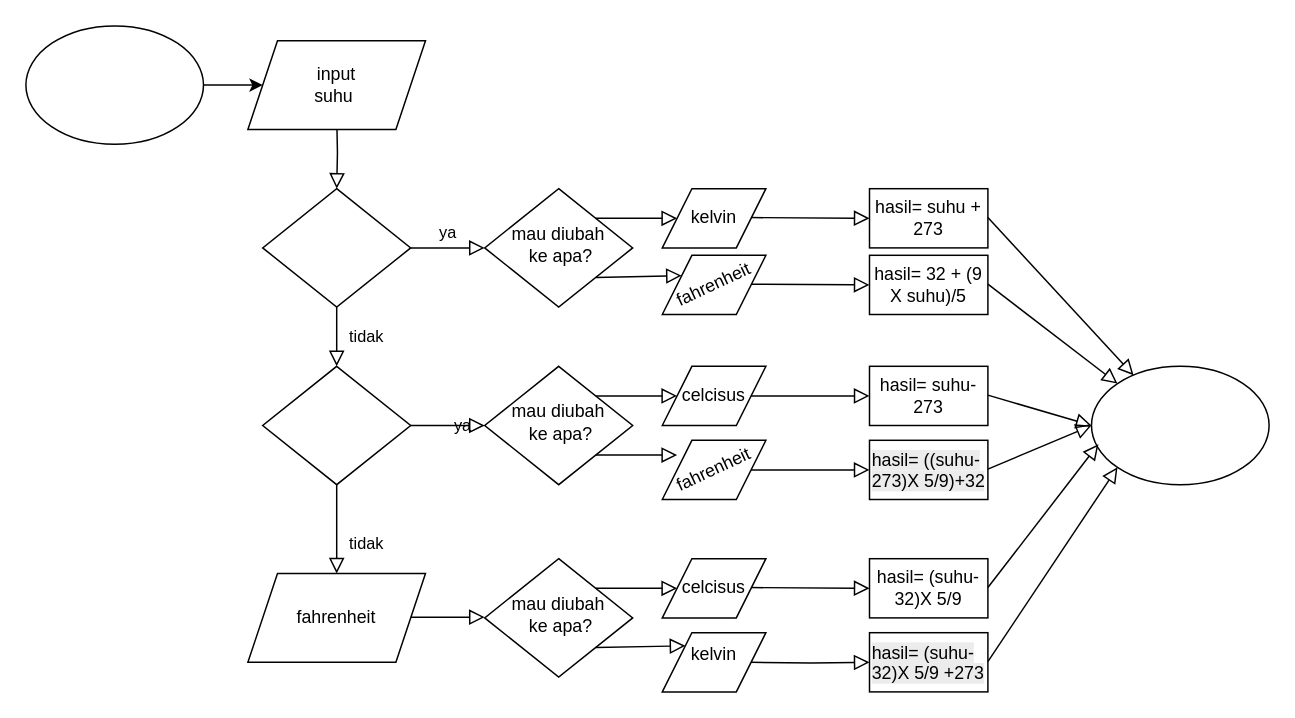
The diagram is 1295 pixels wide and 718 high, and some of its shapes have lost their labels. The shapes that lost their labels are listed below. From the top down, each one's centre as x and y in pixels, then its label:
At point (114, 84): "start".
At point (336, 247): "suhu dalam celcius?".
At point (336, 425): "dalam kelvin?".
At point (1179, 425): "selesai".
